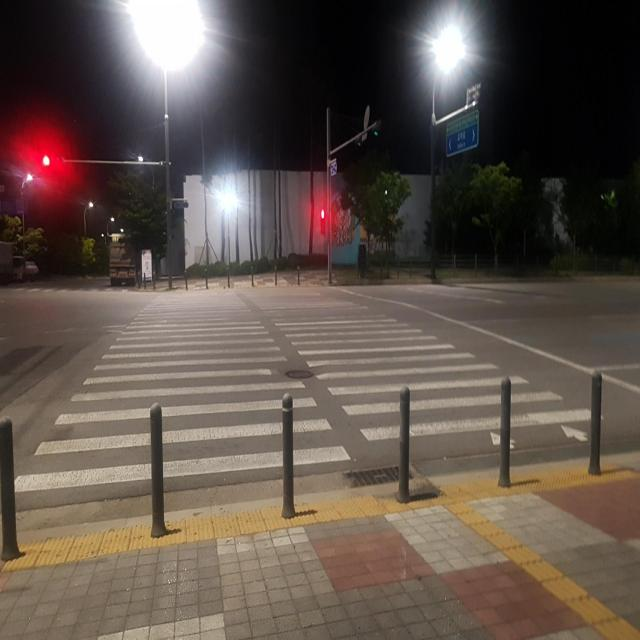빨간불: (318, 207, 328, 238)
횡단보도: (0, 284, 603, 495)
